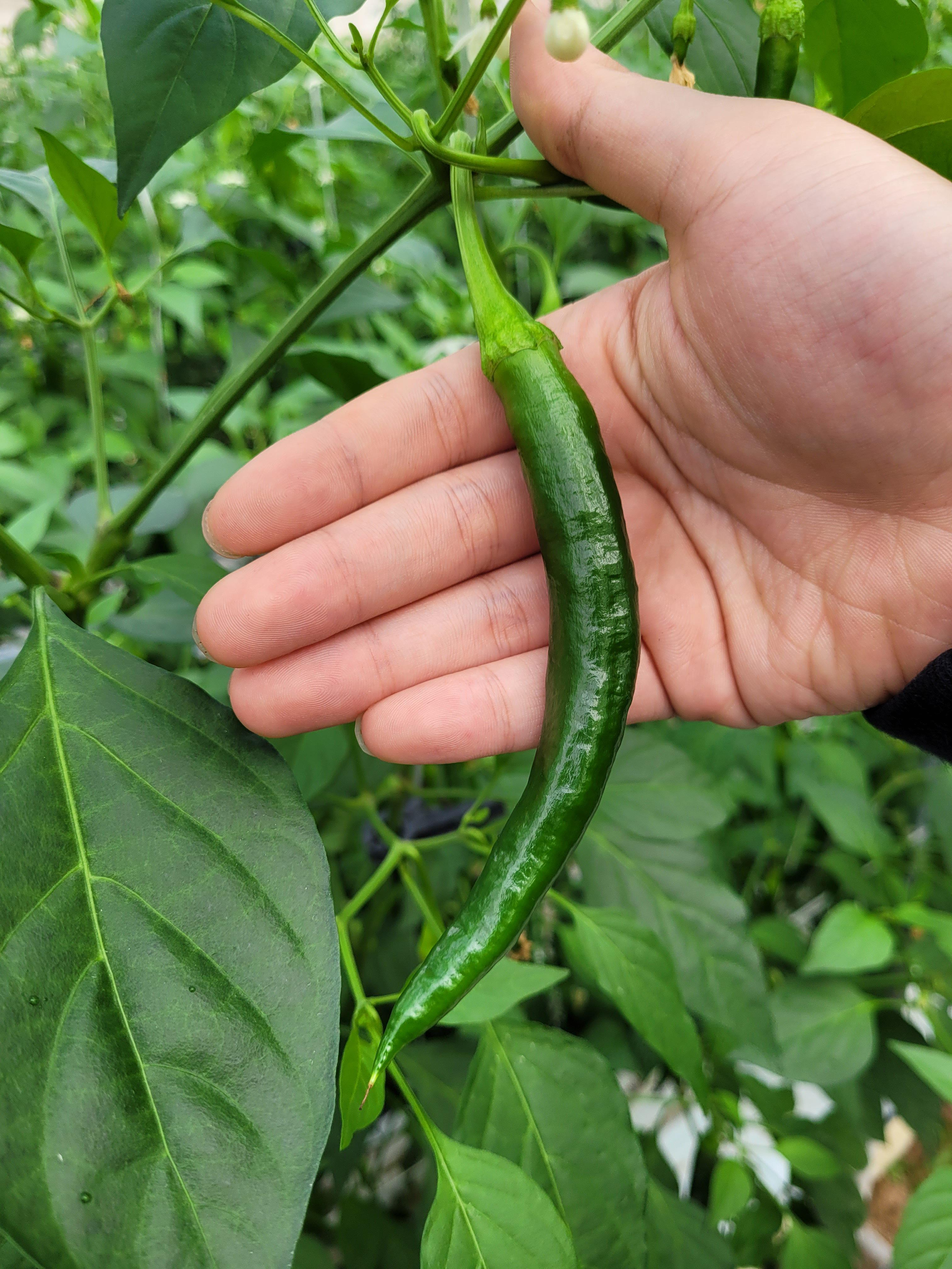Buah Cabai Sehat: (353, 262, 645, 1092)
Daun Cabai Sehat: (0, 583, 349, 1269)
